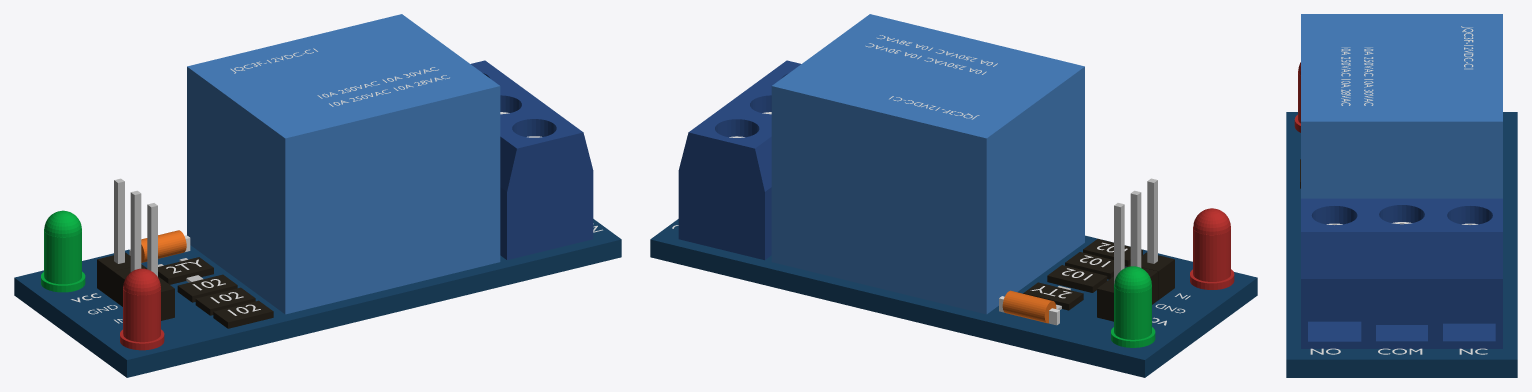
File: relay.glb
The picture shows the model from 3 angles, left to right: view 1: azimuth 30°, elevation 25°; view 2: azimuth 150°, elevation 25°; view 3: azimuth 270°, elevation 25°; orthographic projection. The views are drawn at different scales.
Parts seen in each view (by area): view 1: Cube.001, Cube, Cube.002, Cylinder, Cylinder.001, Cube.013, Cube.004, Cube.016, Cube.010, Cube.014, Cube.015, Cylinder.002 (+3 smaller); view 2: Cube.001, Cube, Cube.002, Cylinder, Cylinder.001, Cylinder.002, Cube.015, Cube.012, Cube.004, Cube.016, Cube.011, Cube.010 (+3 smaller); view 3: Cube.001, Cube.002, Cube, Text.002, Text.001, Cylinder, Text.
Part boxes in pixels (x1,y1,x2,y2): Cube.001: (187, 14, 500, 314); Cube: (14, 219, 621, 377); Cube.002: (471, 60, 593, 260); Cylinder: (120, 268, 164, 350); Cylinder.001: (41, 210, 85, 292); Cube.013: (213, 300, 273, 328); Cube.004: (130, 190, 141, 271); Cube.016: (158, 257, 213, 284); Cube.010: (114, 178, 124, 263); Cube.014: (195, 287, 255, 315); Cube.015: (177, 274, 237, 302); Cylinder.002: (141, 230, 186, 262); Cube.001: (771, 14, 1084, 314); Cube: (650, 219, 1257, 377); Cube.002: (678, 60, 800, 260); Cylinder: (1190, 208, 1234, 289); Cylinder.001: (1111, 266, 1155, 347); Cylinder.002: (1002, 290, 1056, 323); Cube.015: (1047, 265, 1107, 292); Cube.012: (1147, 178, 1157, 263); Cube.004: (1130, 190, 1141, 267); Cube.016: (1023, 282, 1083, 310); Cube.011: (1130, 252, 1174, 299); Cube.010: (1114, 203, 1124, 284); Cube.001: (1301, 14, 1502, 198); Cube.002: (1301, 198, 1502, 348); Cube: (1286, 112, 1517, 377); Text.002: (1341, 47, 1350, 105); Text.001: (1364, 47, 1373, 105); Cylinder: (1294, 62, 1300, 132); Text: (1461, 26, 1473, 69).
Size of the model in its own units: 43.54 by 16.8 by 17.19.
